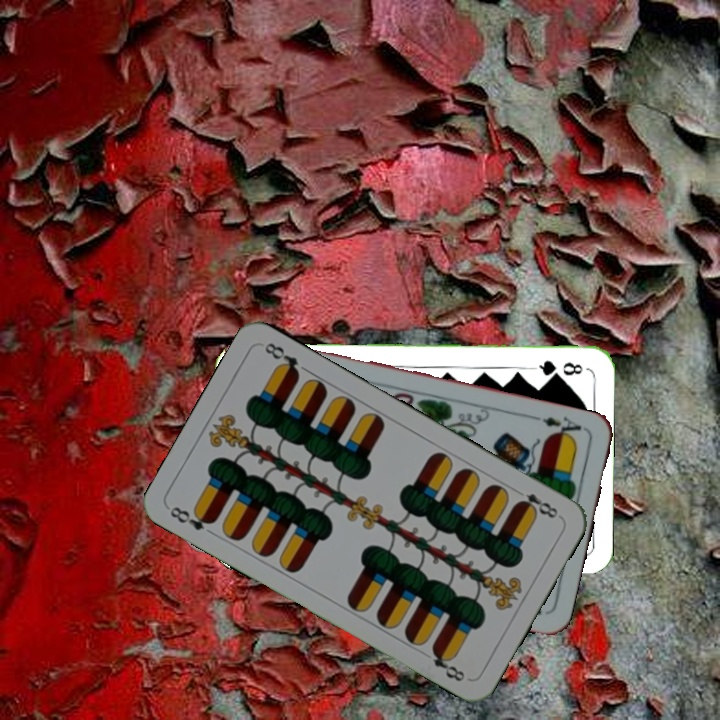E8: (511, 484, 563, 521), (166, 502, 218, 533)
EA: (538, 412, 589, 442)
G8: (529, 357, 585, 379)
